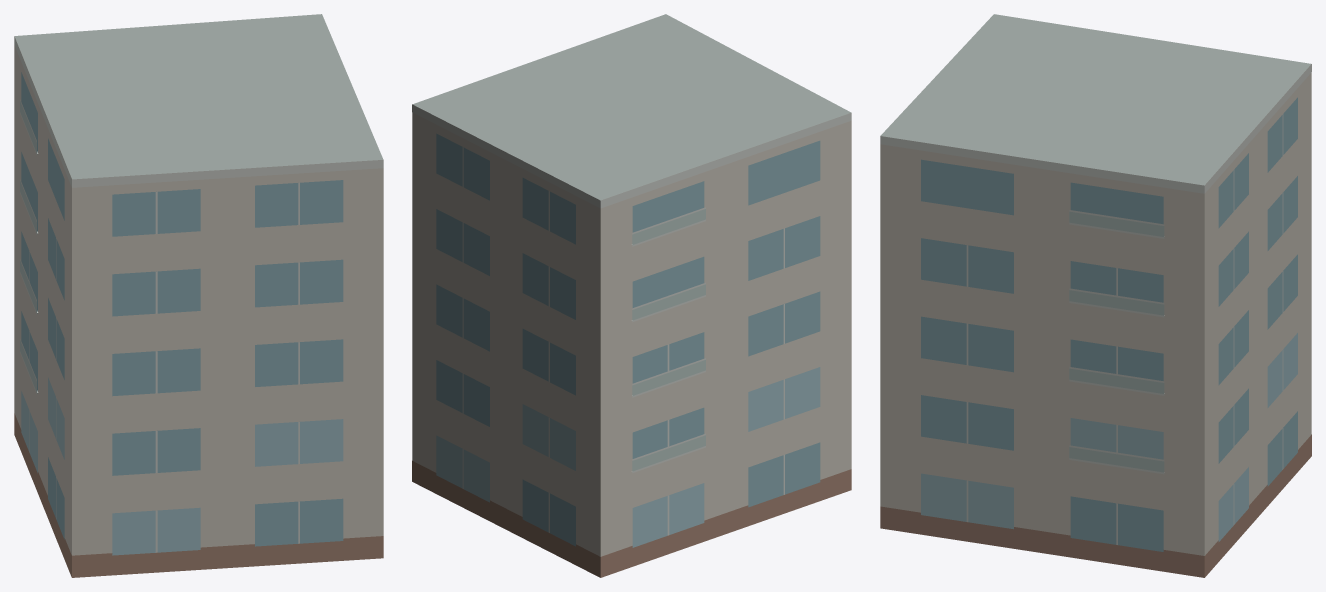
File: survey-upis-32508536.glb
3 views of the same model, side by side, from view 1: azimuth 30°, elevation 25°; view 2: azimuth 150°, elevation 25°; view 3: azimuth 270°, elevation 25° (orthographic). The views are drawn at different scales.
Parts seen in each view (by area): view 1: survey-upis-32508536.tmp; view 2: survey-upis-32508536.tmp; view 3: survey-upis-32508536.tmp.
Boxes of the visible parts, x1,y1,x2,y2 form: survey-upis-32508536.tmp: [14, 14, 383, 577]; survey-upis-32508536.tmp: [412, 14, 851, 577]; survey-upis-32508536.tmp: [880, 14, 1311, 577].
Bounding box in the file's own units: 10.89 × 11.6 × 11.57.
